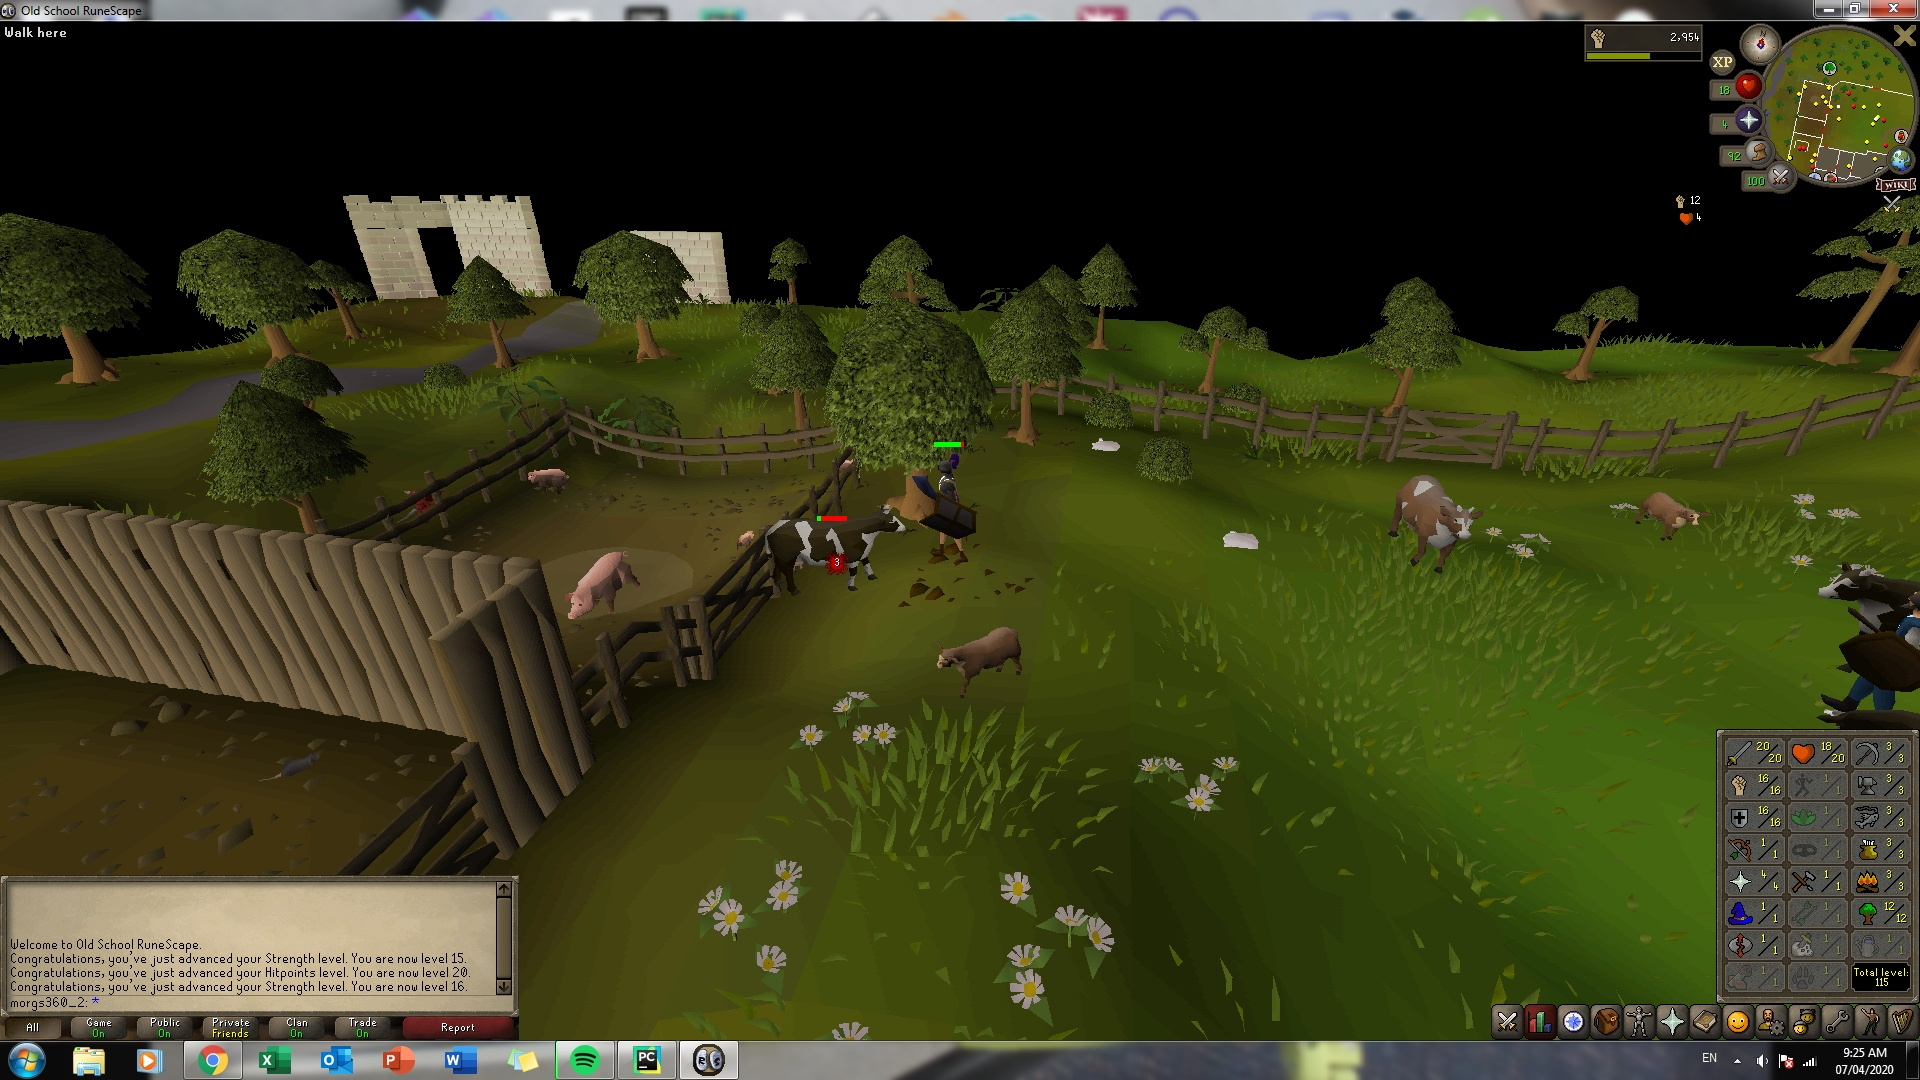cow: (764, 509, 910, 597), (1382, 473, 1487, 578), (1818, 549, 1917, 636)
